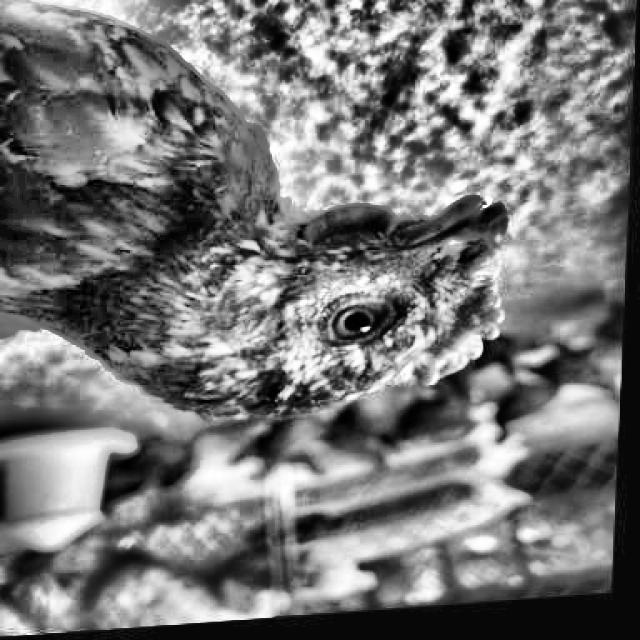Healthy: (317, 292, 398, 352)
